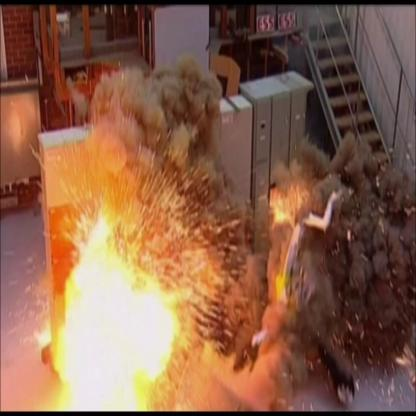fire: (44, 213, 180, 416), (262, 183, 309, 317)
smoke: (85, 67, 416, 398)
